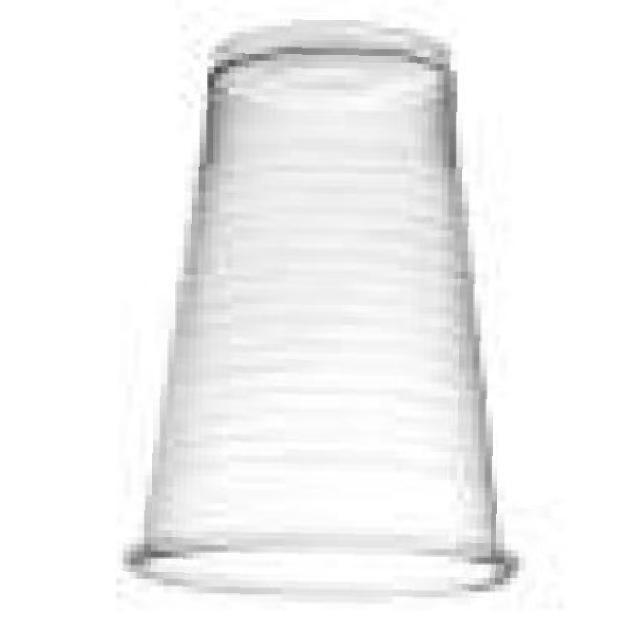cup: (115, 10, 542, 614)
